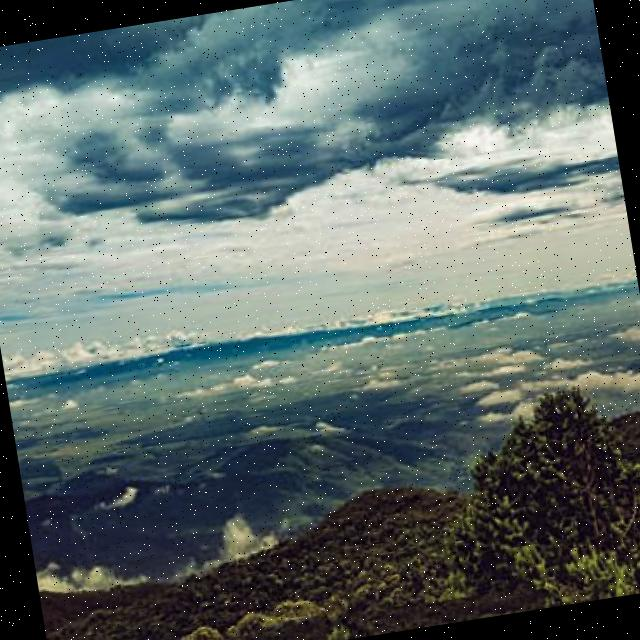Ns: (1, 1, 624, 289)
